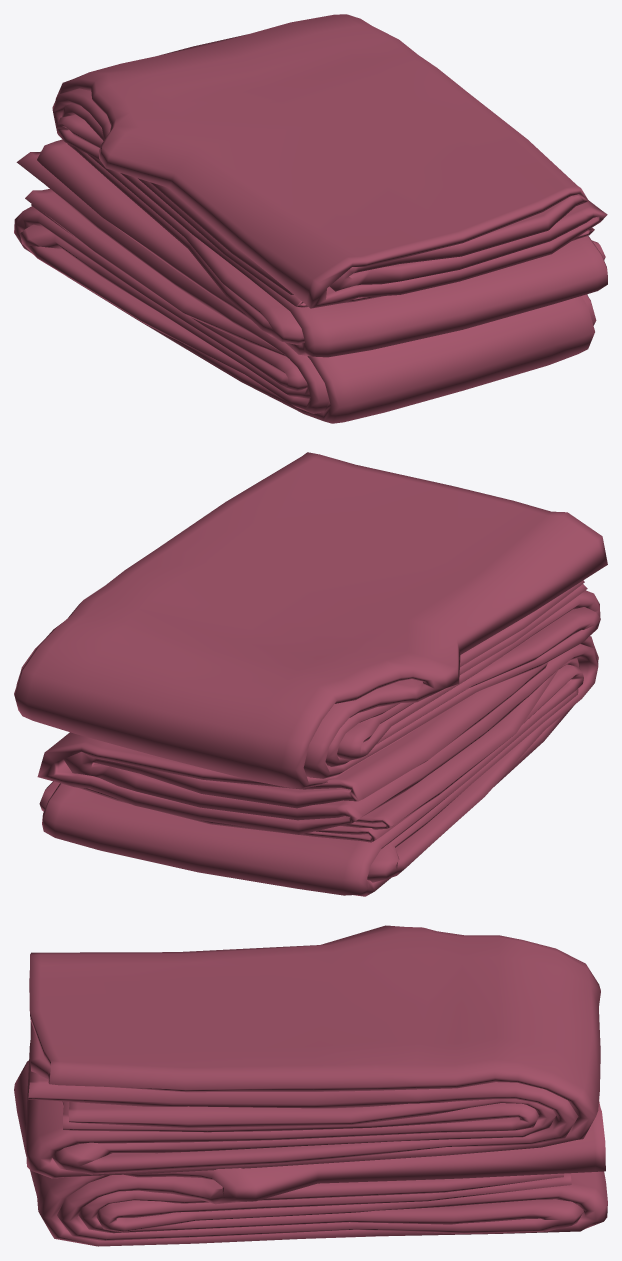
The model's file is Folded_Pant07.fbx.
The picture shows the model from 3 angles, top to bottom: view 1: azimuth 30°, elevation 25°; view 2: azimuth 150°, elevation 25°; view 3: azimuth 270°, elevation 25°; orthographic projection. The views are drawn at different scales.
Parts seen in each view (by area): view 1: Folded_Pant07; view 2: Folded_Pant07; view 3: Folded_Pant07.
Part boxes in pixels (box(x1,y1,x2,y2)): Folded_Pant07: box(14, 14, 607, 423); Folded_Pant07: box(14, 452, 607, 896); Folded_Pant07: box(14, 925, 607, 1246).
Size of the model in its own units: 25.02 by 11.51 by 34.5.
